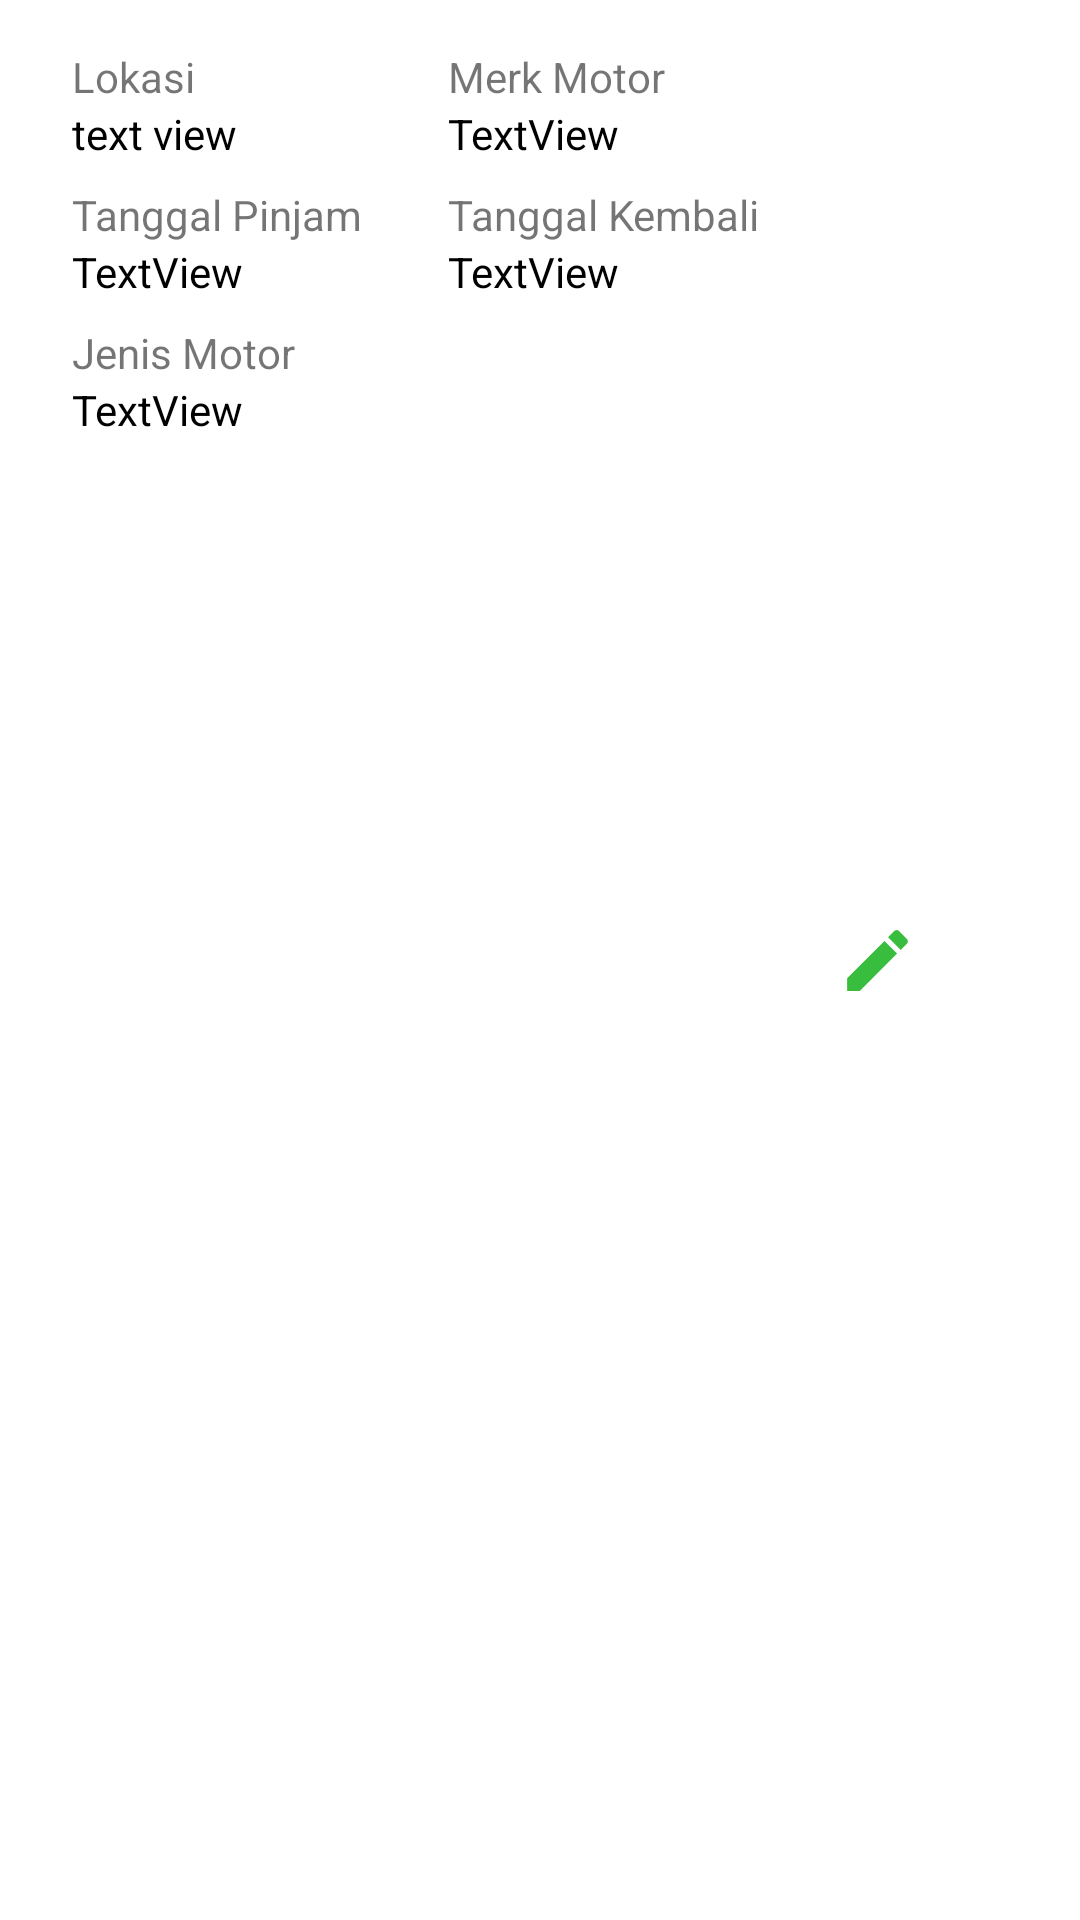

Where to tap for icons on this 1080 × 1920 app screen, as (x,y):
edit: (877,960)
